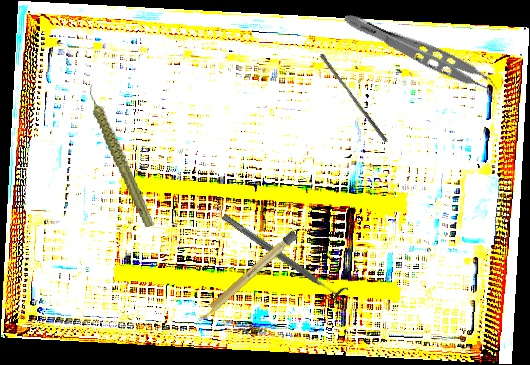Fixation Ring: (216, 206, 350, 307)
Handpiece: (86, 77, 156, 234)
Pusher: (316, 52, 392, 144)
Scalpel Handle: (193, 228, 300, 326)
Tissue Forceps: (337, 10, 504, 102)
